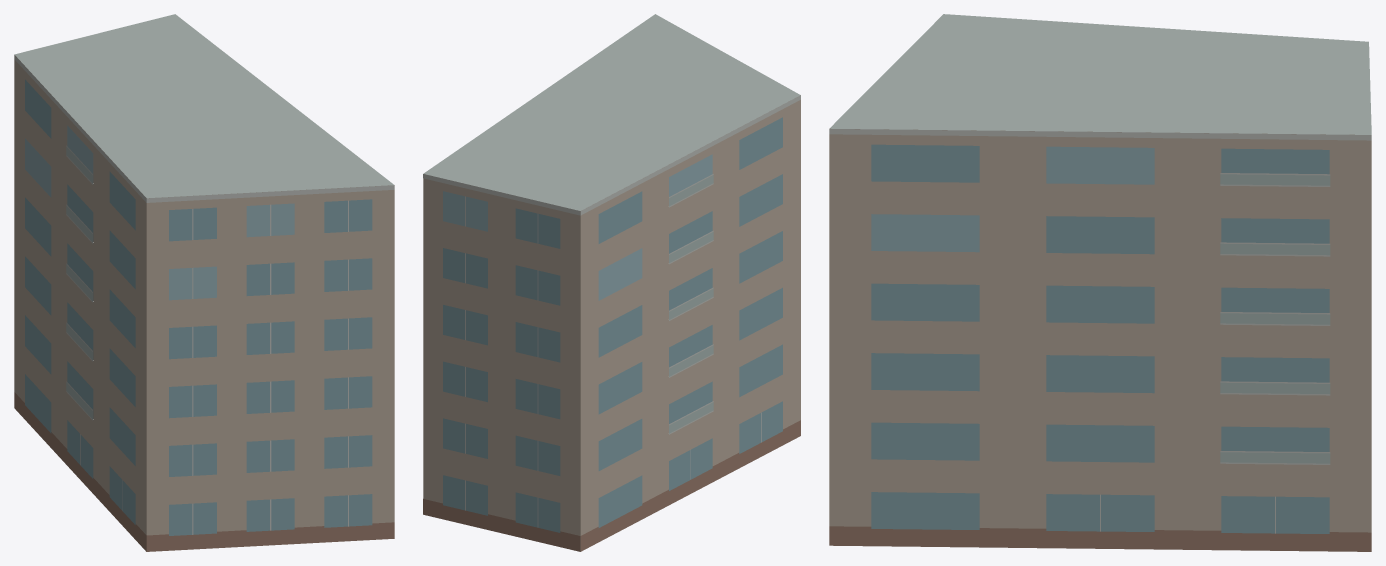
Rendered from survey-upis-33002353.glb.
The picture shows the model from 3 angles, left to right: view 1: azimuth 30°, elevation 25°; view 2: azimuth 150°, elevation 25°; view 3: azimuth 270°, elevation 25°; orthographic projection. The views are drawn at different scales.
Visible parts, largest first — view 1: survey-upis-33002353.tmp; view 2: survey-upis-33002353.tmp; view 3: survey-upis-33002353.tmp.
Part boxes in pixels (left/top/right/bottom): survey-upis-33002353.tmp: left=14, top=14, right=394, bottom=551; survey-upis-33002353.tmp: left=423, top=14, right=800, bottom=551; survey-upis-33002353.tmp: left=829, top=14, right=1371, bottom=551.
Size of the model in its own units: 11.4 by 18.3 by 21.6.
